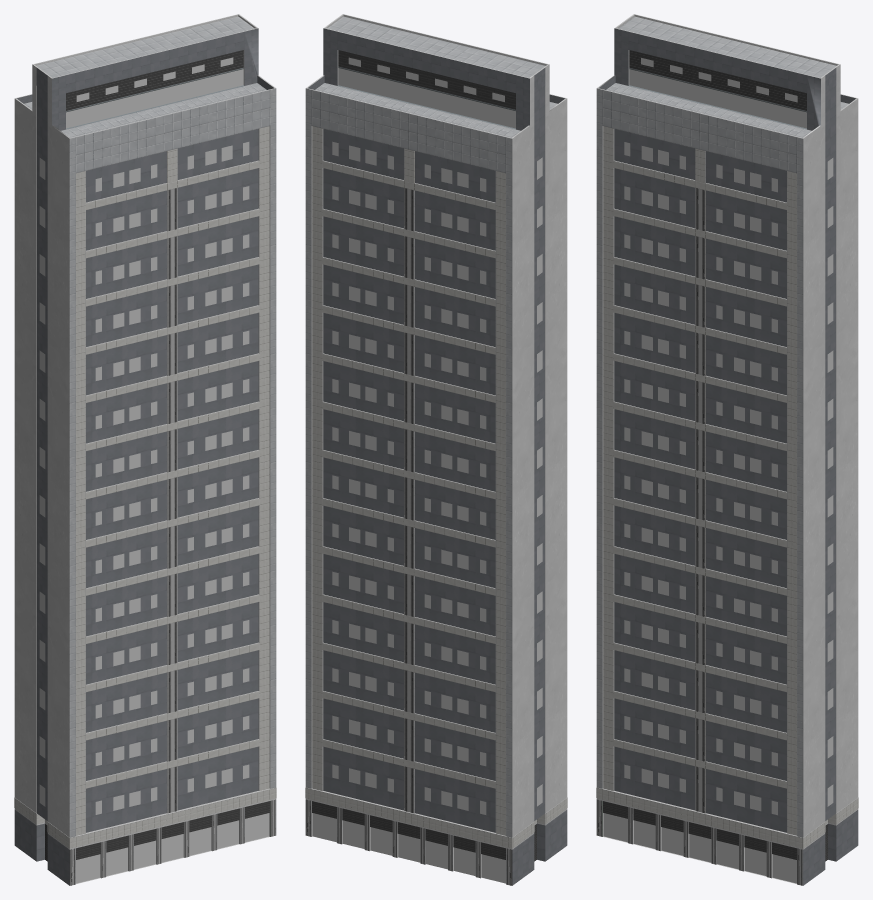
The model's file is House_GW.fbx.
The picture shows the model from 3 angles, left to right: view 1: azimuth 30°, elevation 25°; view 2: azimuth 150°, elevation 25°; view 3: azimuth 330°, elevation 25°; orthographic projection.
Parts seen in each view (by area): view 1: HouseGW; view 2: HouseGW; view 3: HouseGW.
Boxes of the visible parts, x1=… form: HouseGW: x1=14, y1=14, x2=276, y2=885; HouseGW: x1=305, y1=14, x2=567, y2=885; HouseGW: x1=596, y1=14, x2=858, y2=885.
Size of what is drawn, in the model's own units: 35.96 by 132 by 16.72.
